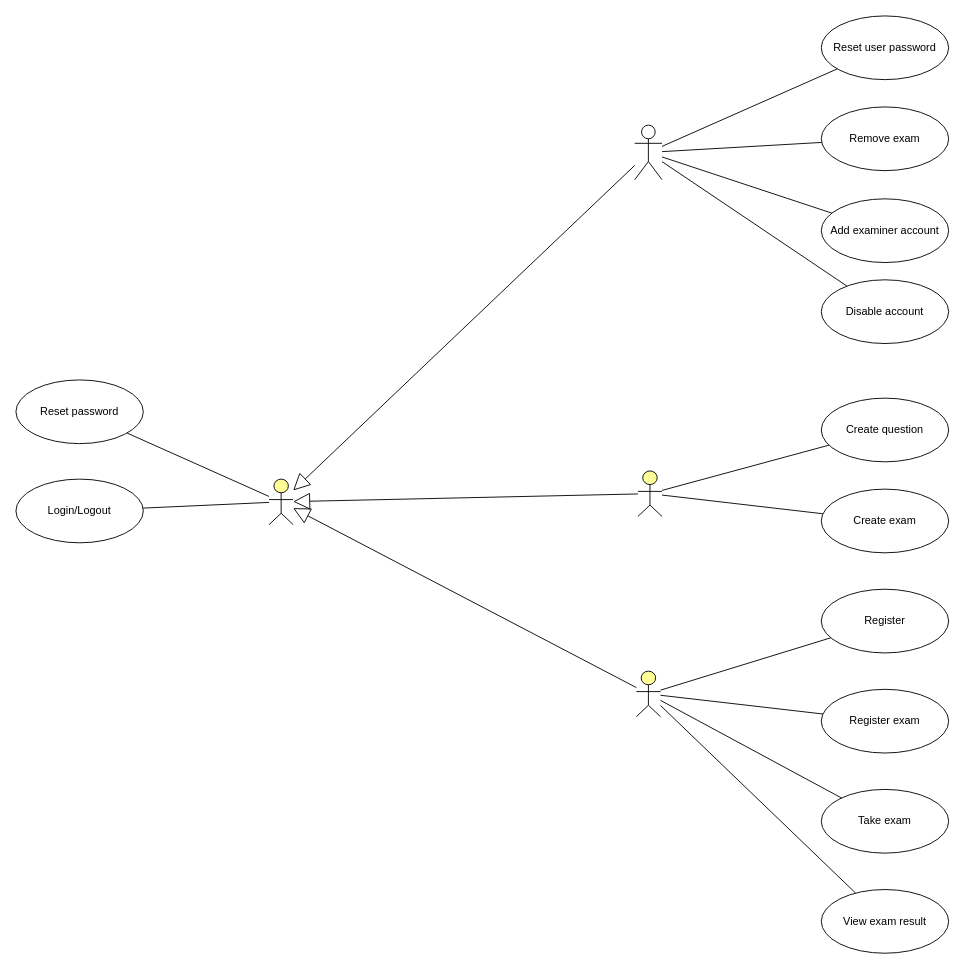
The diagram is 965 pixels wide and 969 high, and some of its shapes have lost their labels. The centre of each missing label's shape, as x and y in pixels:
"Admin" belongs at point (648, 152).
"Candidate" belongs at point (647, 693).
"Examiner" belongs at point (649, 493).
"User" belongs at point (280, 501).
